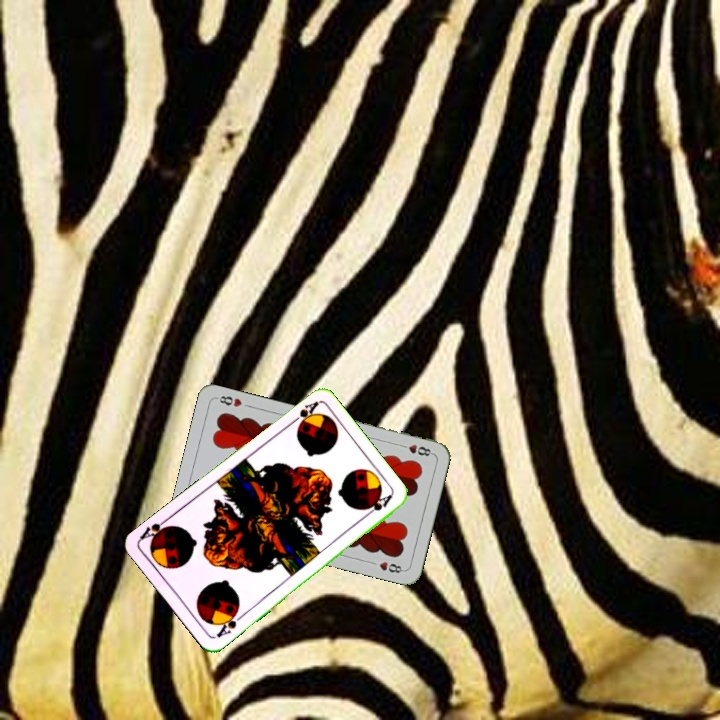H8: (395, 440, 435, 459)
SA: (285, 397, 321, 430), (212, 607, 246, 641)
